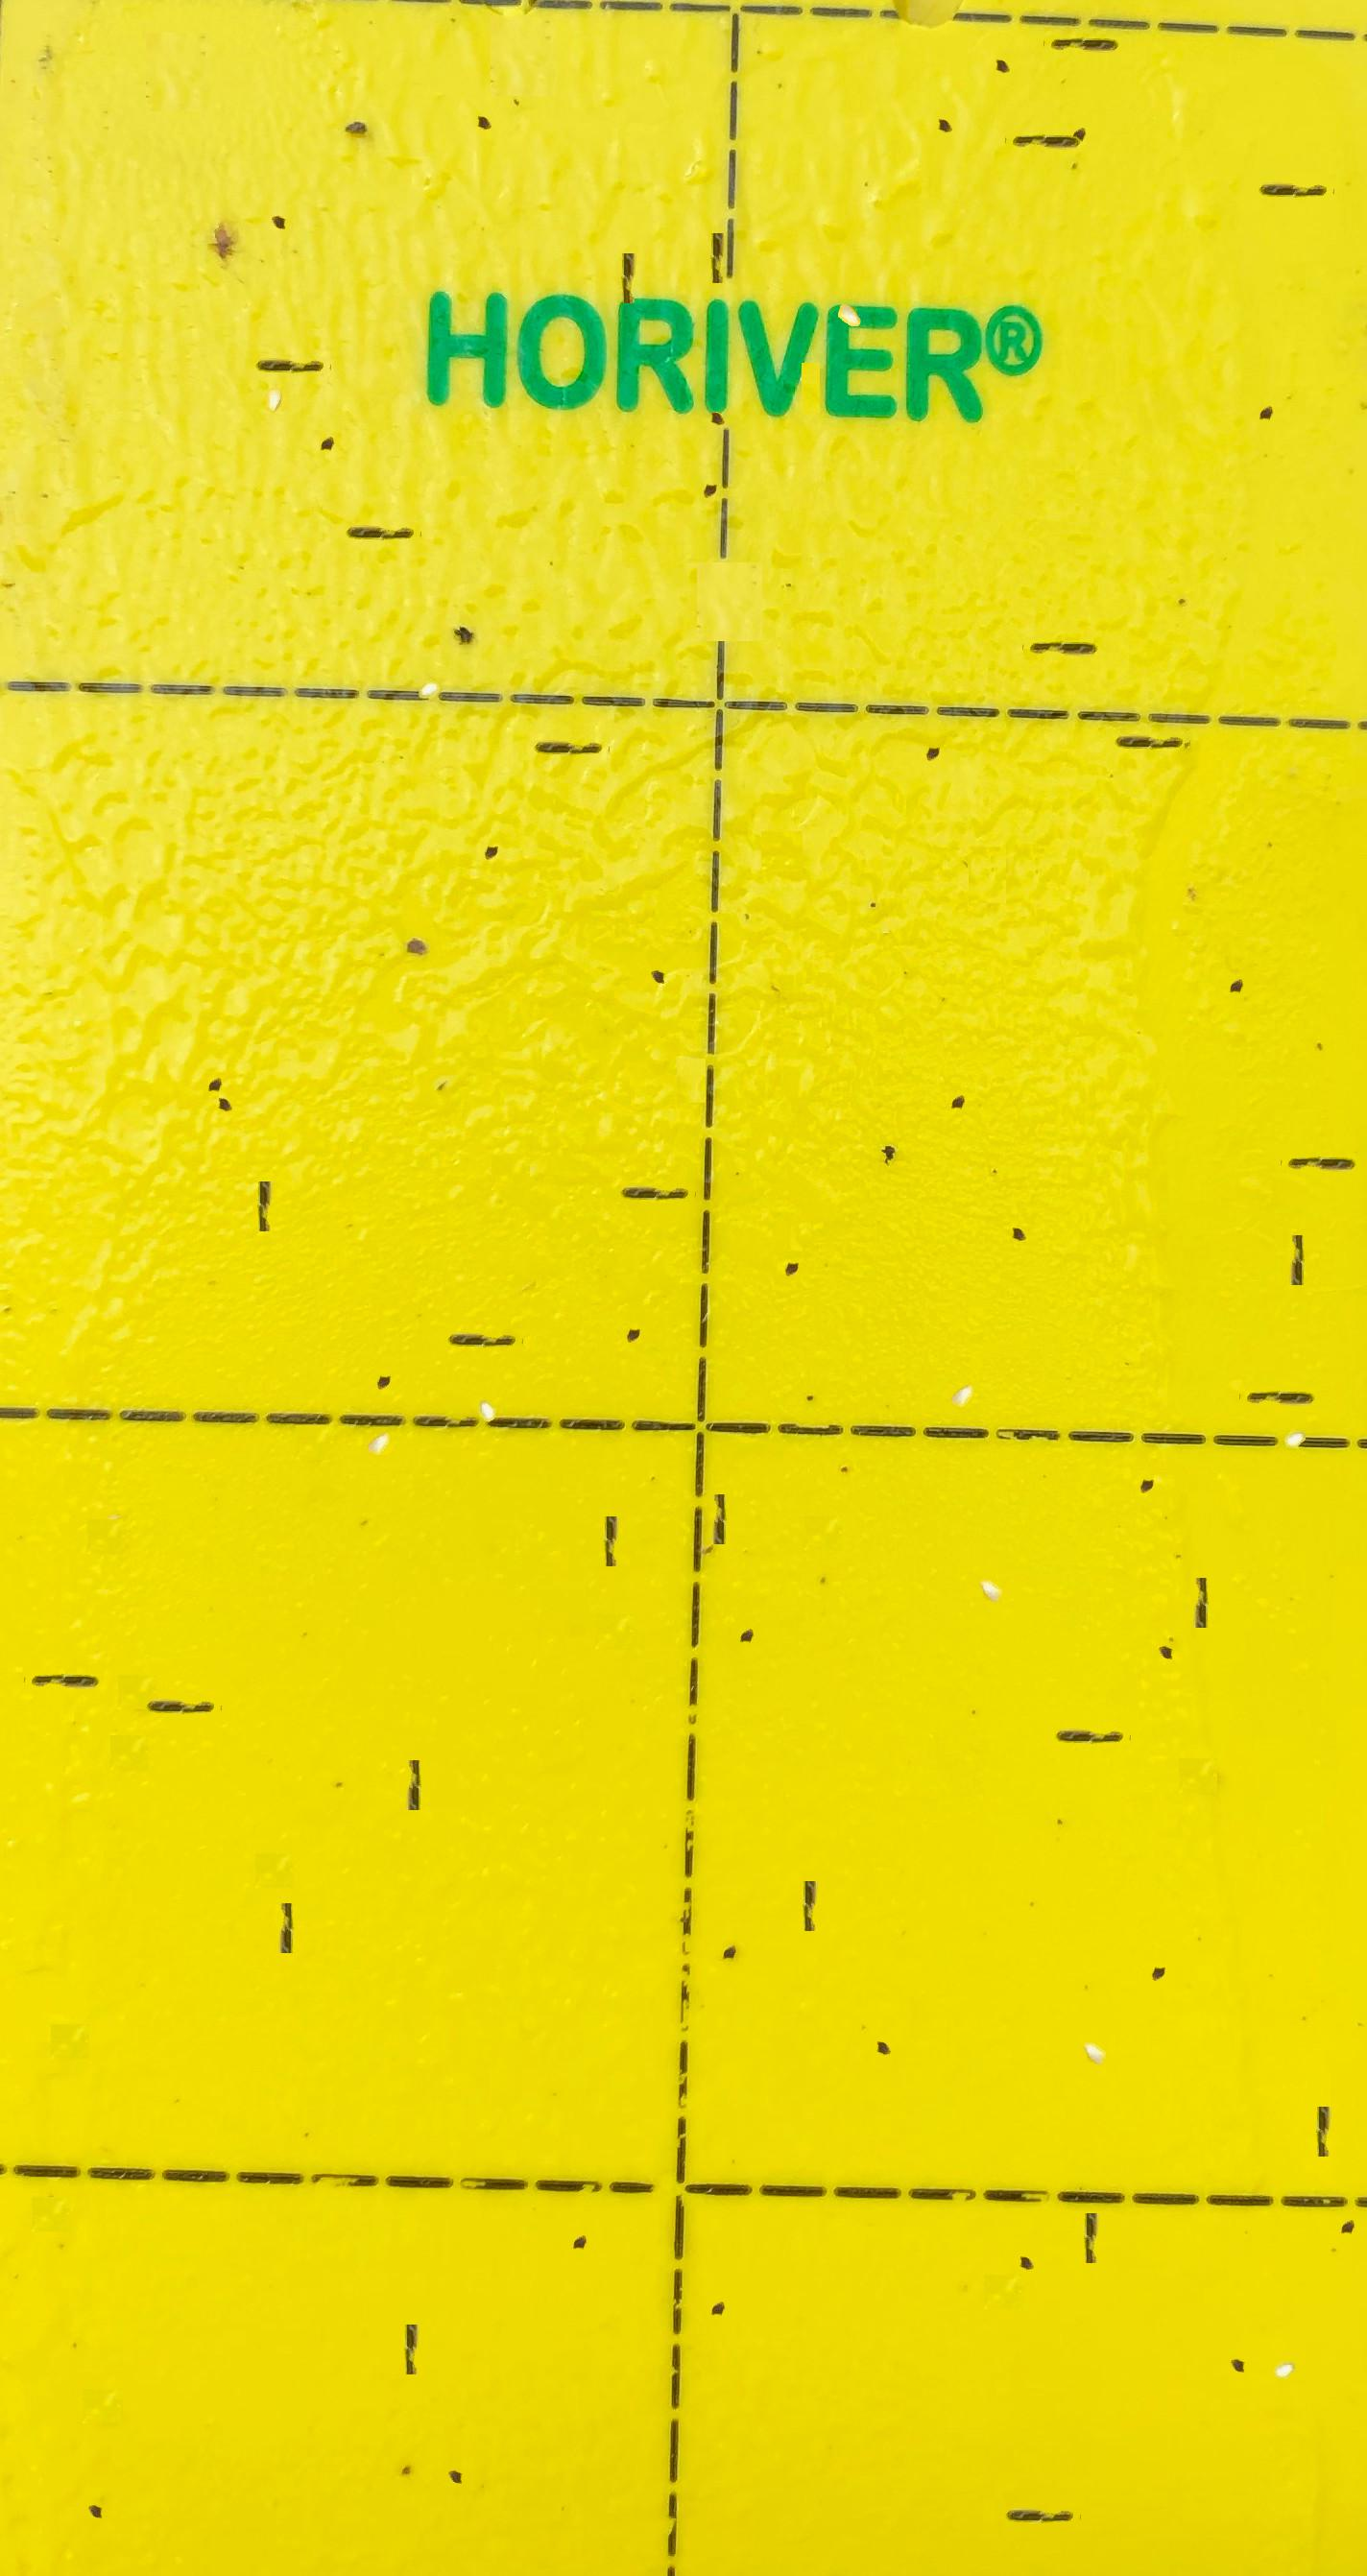white_fly: (465, 1339, 508, 1389), (1273, 1366, 1316, 1414), (409, 618, 452, 666), (1263, 2298, 1304, 2346), (827, 249, 869, 293), (970, 1527, 1012, 1571), (1074, 1990, 1116, 2033), (941, 1332, 983, 1375), (358, 1380, 399, 1423), (256, 342, 297, 380)
